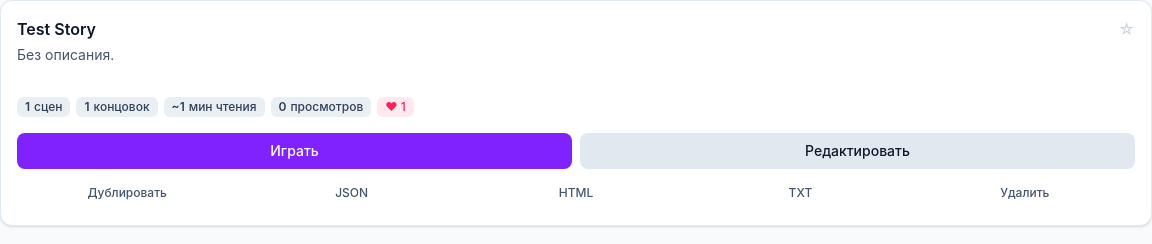
Test: StoryCard › unlikes a story when already liked
This screenshot has width=1152, height=244.
Click the button named "Убрать лайк" at (396, 107), box [377,97,414,117]
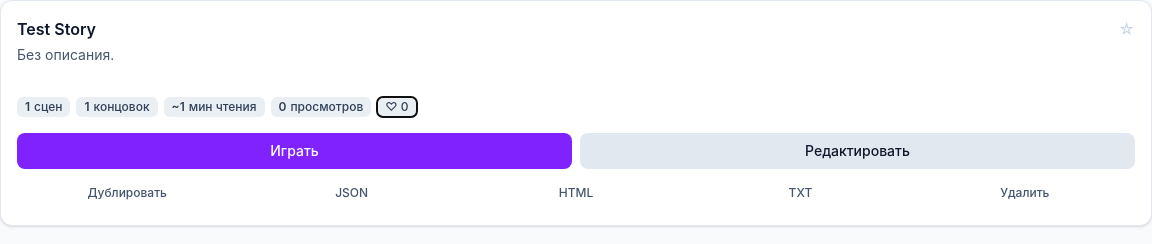
Check: the button named "Поставить лайк" reads "♡ 0", box [377,97,416,117]
